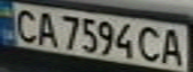4: (115, 20, 139, 60)
5: (78, 16, 100, 54)
7: (57, 12, 81, 51)
9: (93, 18, 118, 56)
A: (157, 26, 187, 66), (33, 9, 60, 47)
C: (9, 6, 42, 44), (136, 25, 163, 63)
